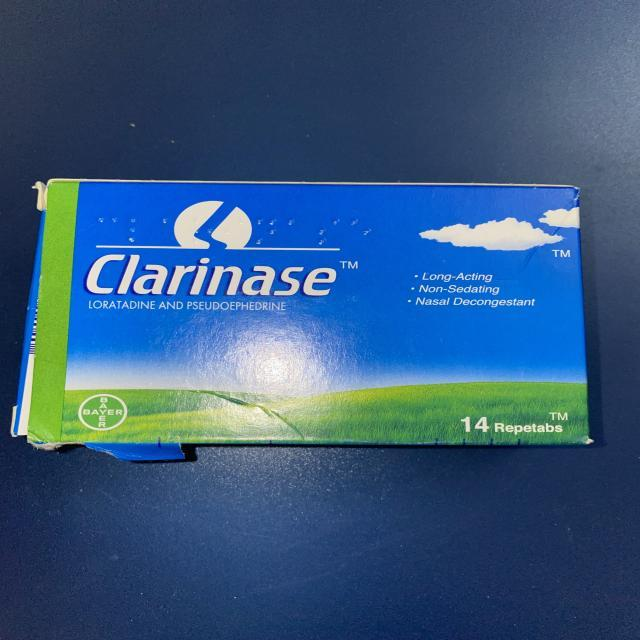Medicine Name: (79, 252, 339, 299)
